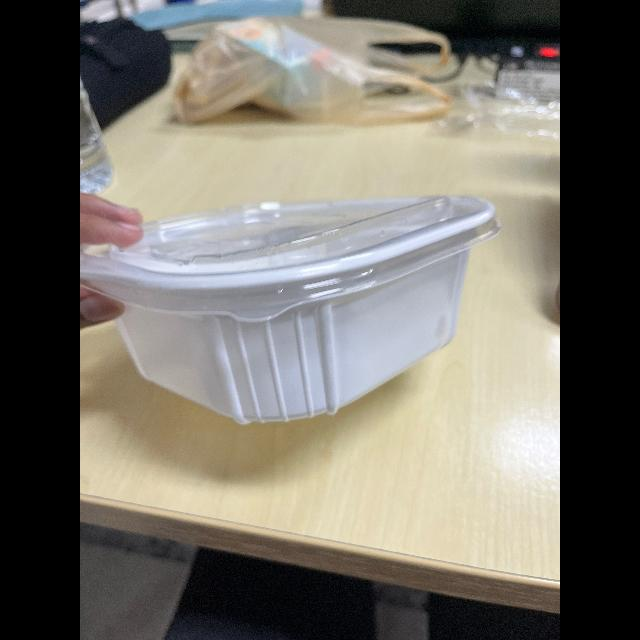plastic_box: (80, 165, 506, 438)
